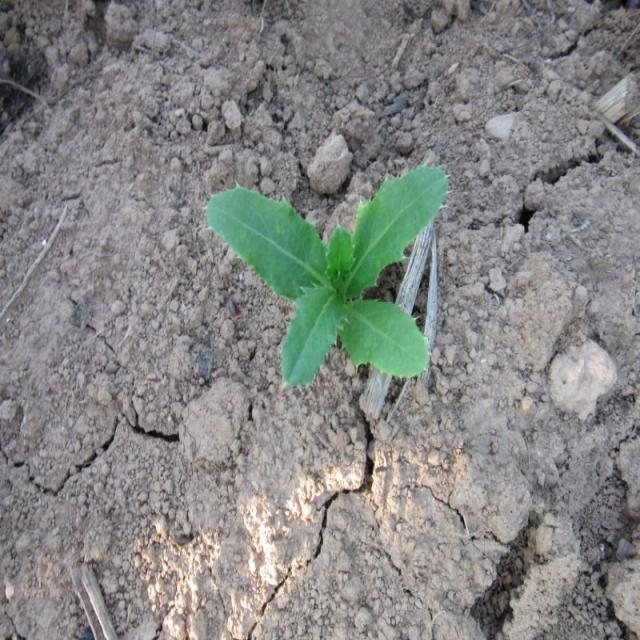cs: (206, 159, 449, 394)
